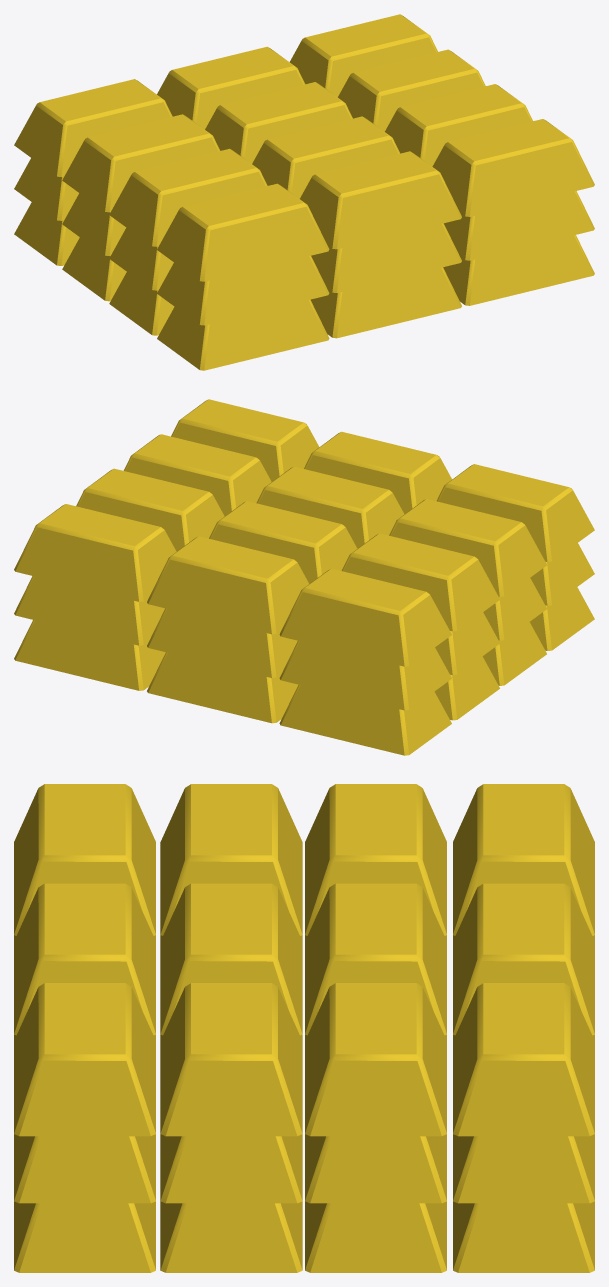
Rendered from gold5.fbx.
3 views of the same model, one above another, from view 1: azimuth 30°, elevation 25°; view 2: azimuth 150°, elevation 25°; view 3: azimuth 270°, elevation 25° (orthographic). The views are drawn at different scales.
Visible parts, largest first — view 1: pCube52; view 2: pCube52; view 3: pCube52.
Part boxes in pixels (left/top/right/bottom): pCube52: left=14, top=14, right=594, bottom=370; pCube52: left=14, top=399, right=594, bottom=755; pCube52: left=14, top=784, right=594, bottom=1272.
Bounding box in the file's own units: 109 × 35.29 × 90.4.
